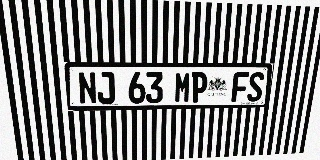3: (146, 72, 163, 103)
6: (128, 72, 145, 104)
F: (231, 72, 249, 102)
J: (96, 72, 115, 104)
M: (174, 72, 191, 103)
N: (77, 72, 97, 104)
P: (191, 72, 208, 103)
S: (247, 72, 265, 102)
